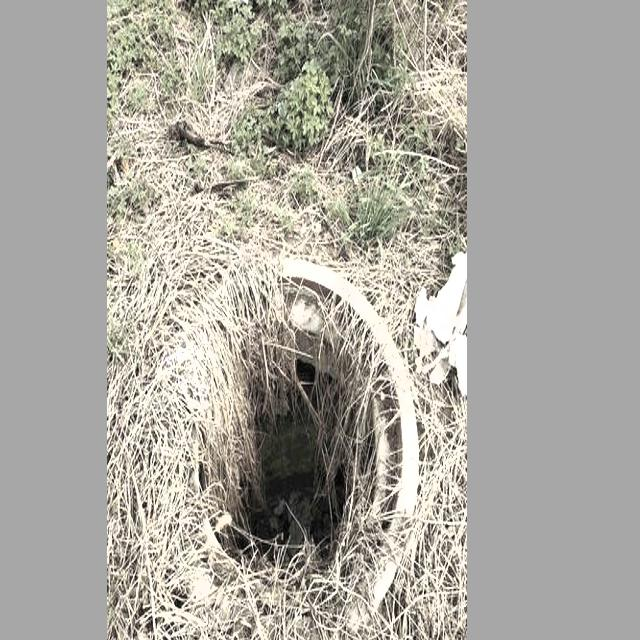lose: (147, 269, 419, 640)
